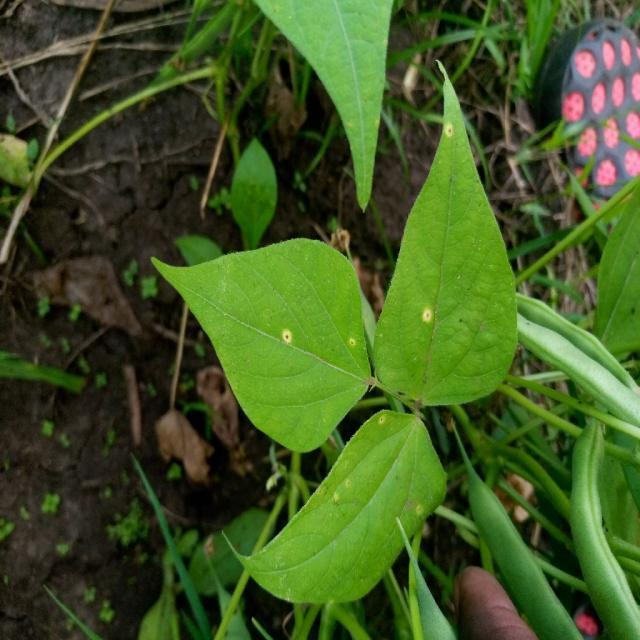hawar: (327, 463, 435, 531), (397, 299, 461, 351), (273, 313, 331, 356), (364, 405, 408, 442), (343, 328, 371, 365), (430, 112, 456, 140)
